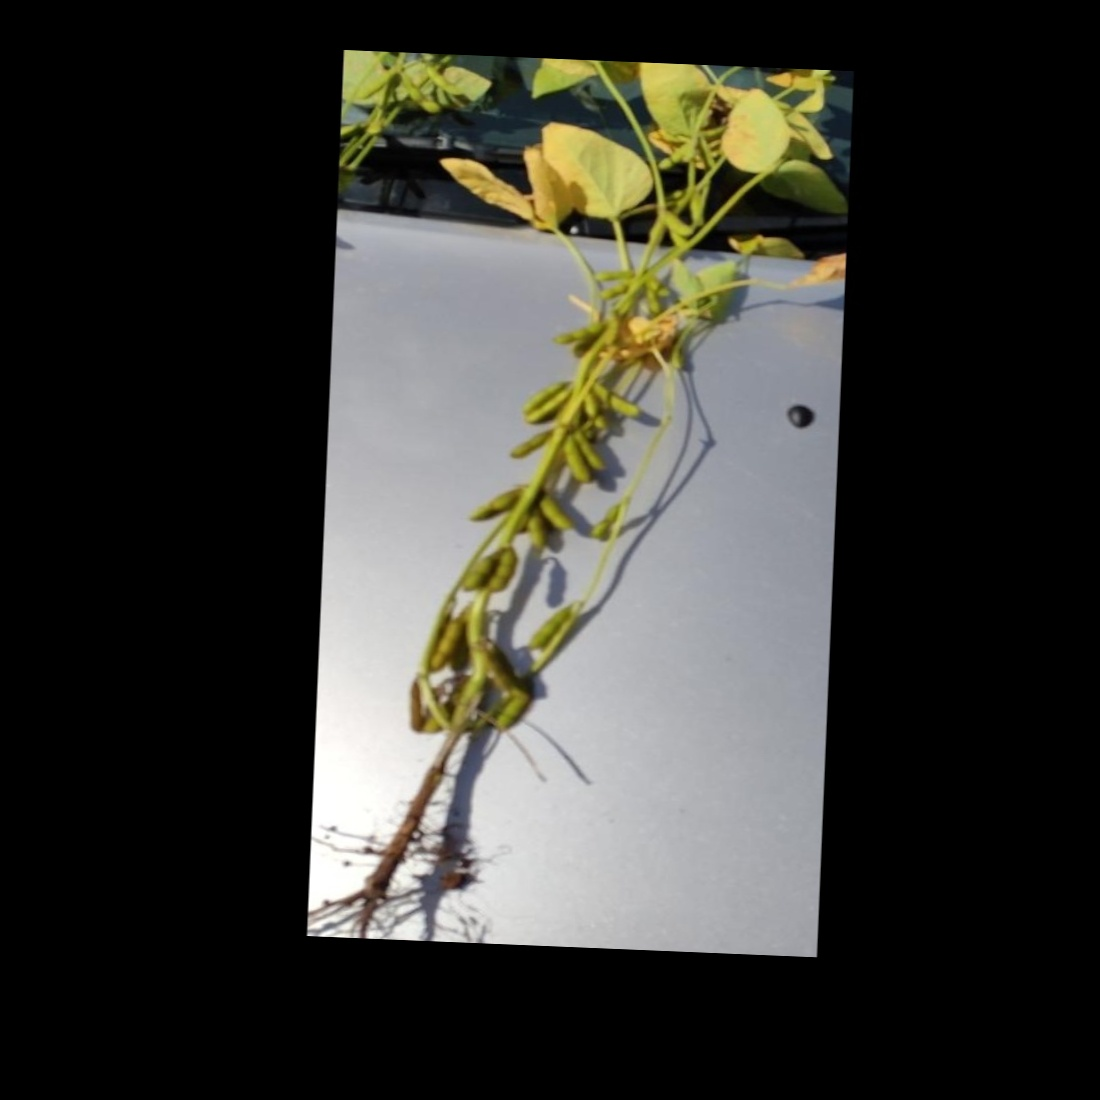pod: (526, 595, 580, 659), (516, 378, 578, 422), (524, 379, 575, 430), (591, 380, 652, 420), (552, 435, 598, 488), (483, 541, 518, 607), (543, 314, 603, 348), (535, 488, 577, 534), (459, 547, 497, 594), (650, 207, 698, 242), (590, 502, 618, 540)
soy: (315, 57, 835, 981)
